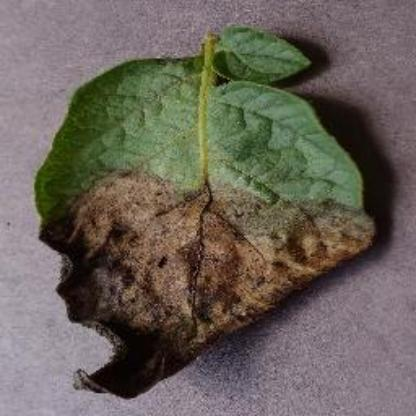Late-Blight: (22, 30, 370, 416)
